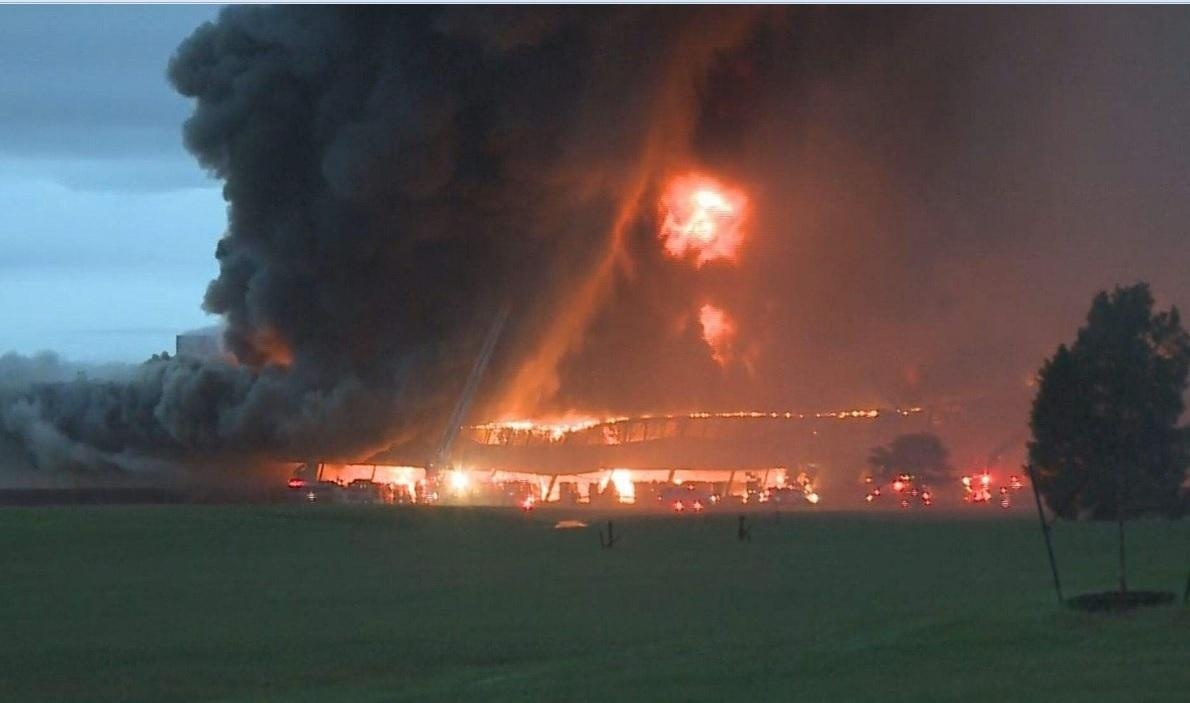fire: (662, 177, 741, 255)
